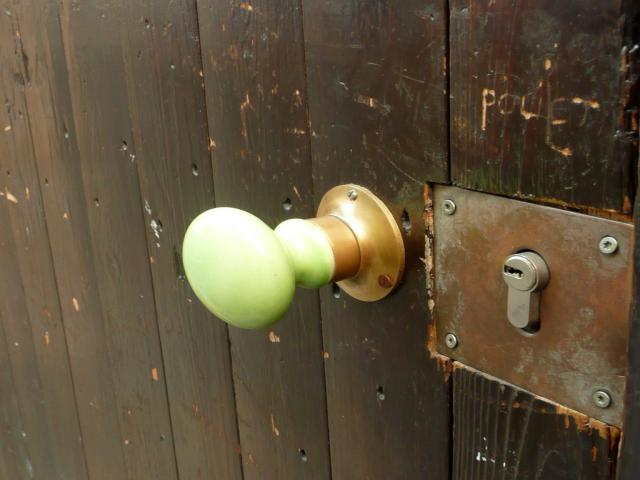Door-handle: (178, 183, 410, 339)
